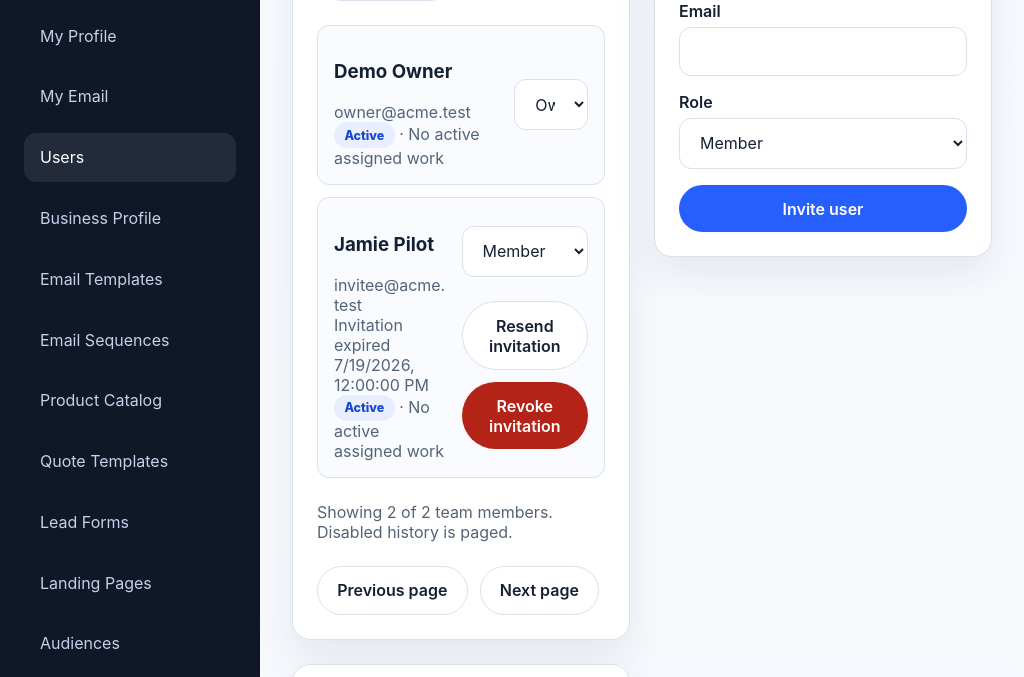
Test: settings users route › shows invitation expiry, resends with token rotation, and confirms revocation
(page scrolled)
expect the text "Invitation expired 7/19/2026, 12:00:00 PM" is shown: met, box [334,315,446,395]
Click the button "Resend invitation" at (525, 336), box [462,301,588,370]
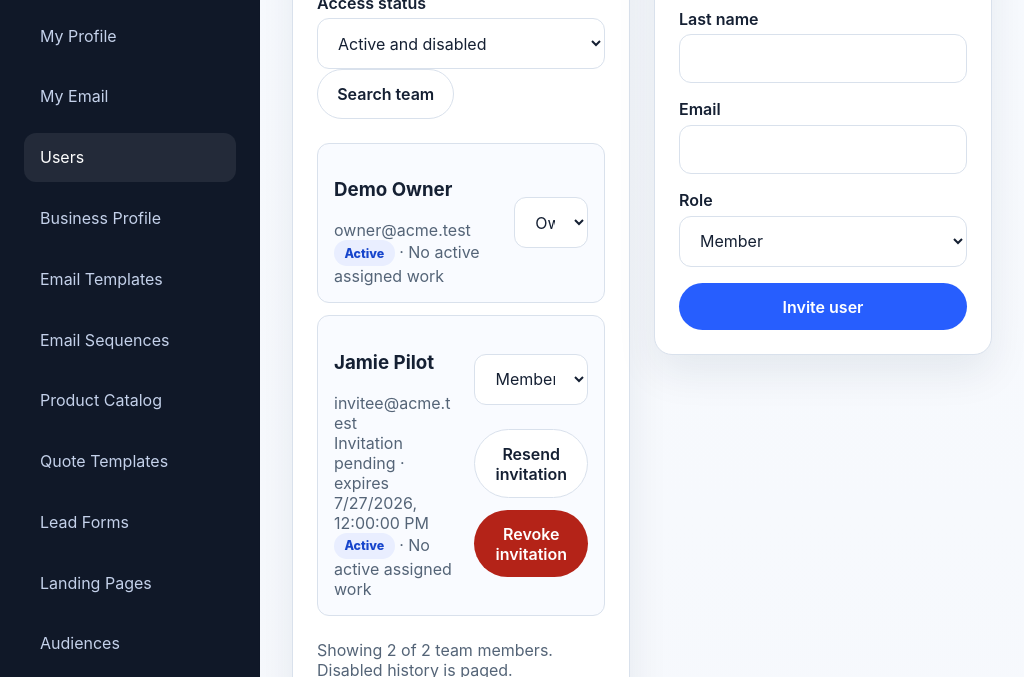
Click the button "Revoke invitation" at (531, 544), box [474,510,588,577]
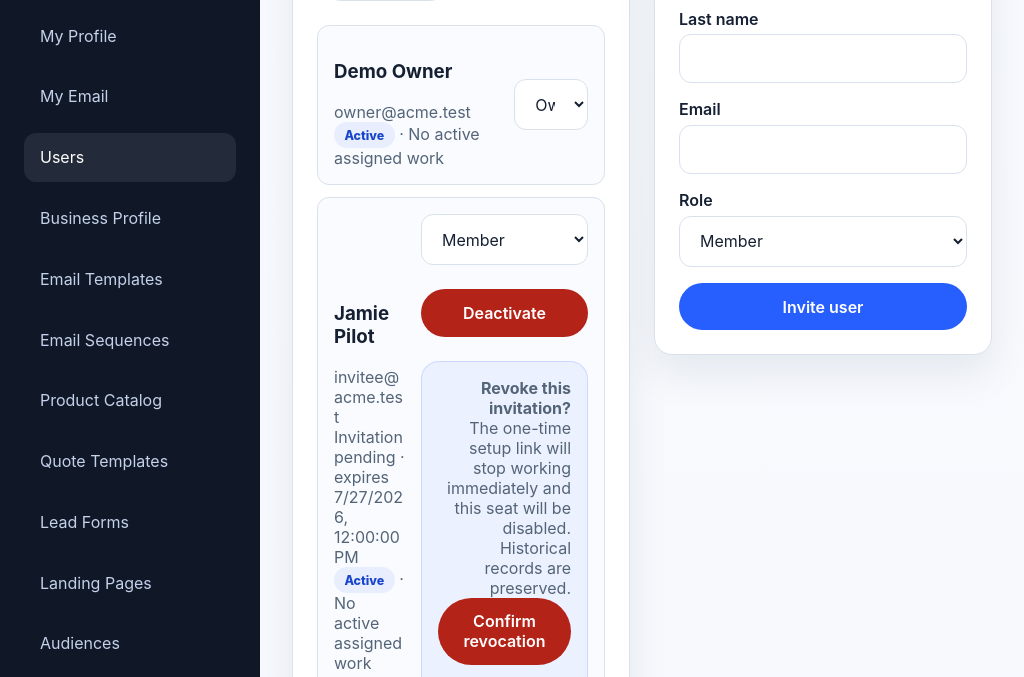
expect the text "one-time setup link will stop working immediately" is shown: met, box [447,418,571,598]
Click the button "Confirm revocation" at (504, 631), box [438,598,571,665]
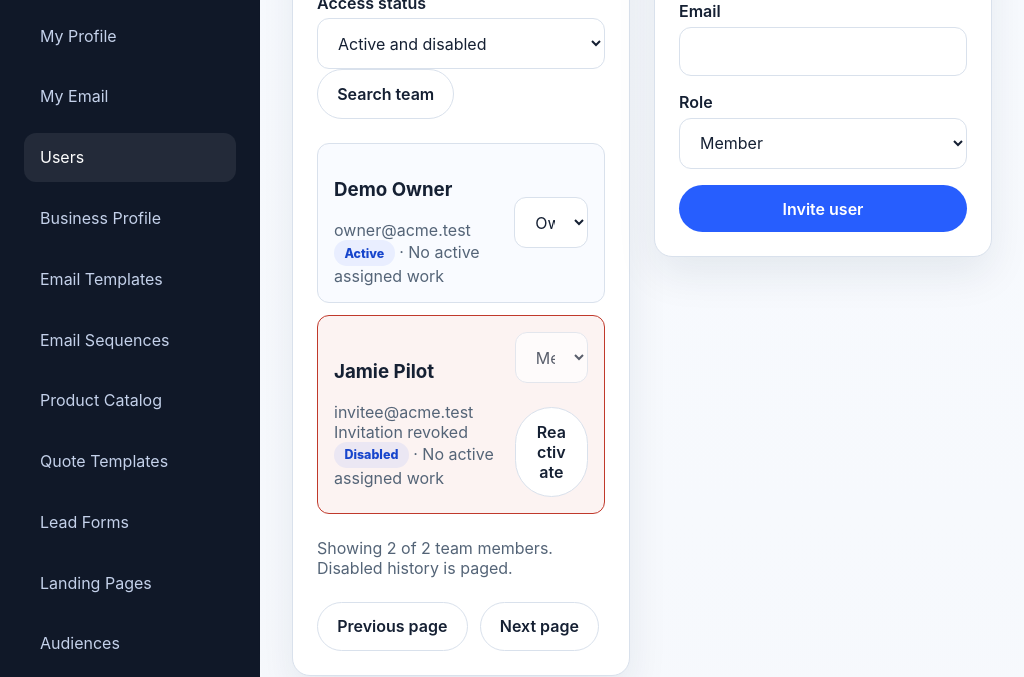
expect the text "Invitation revoked" is shown: met, box [334,422,468,442]
expect the text "Disabled" is shown: met, box [334,442,409,468]
